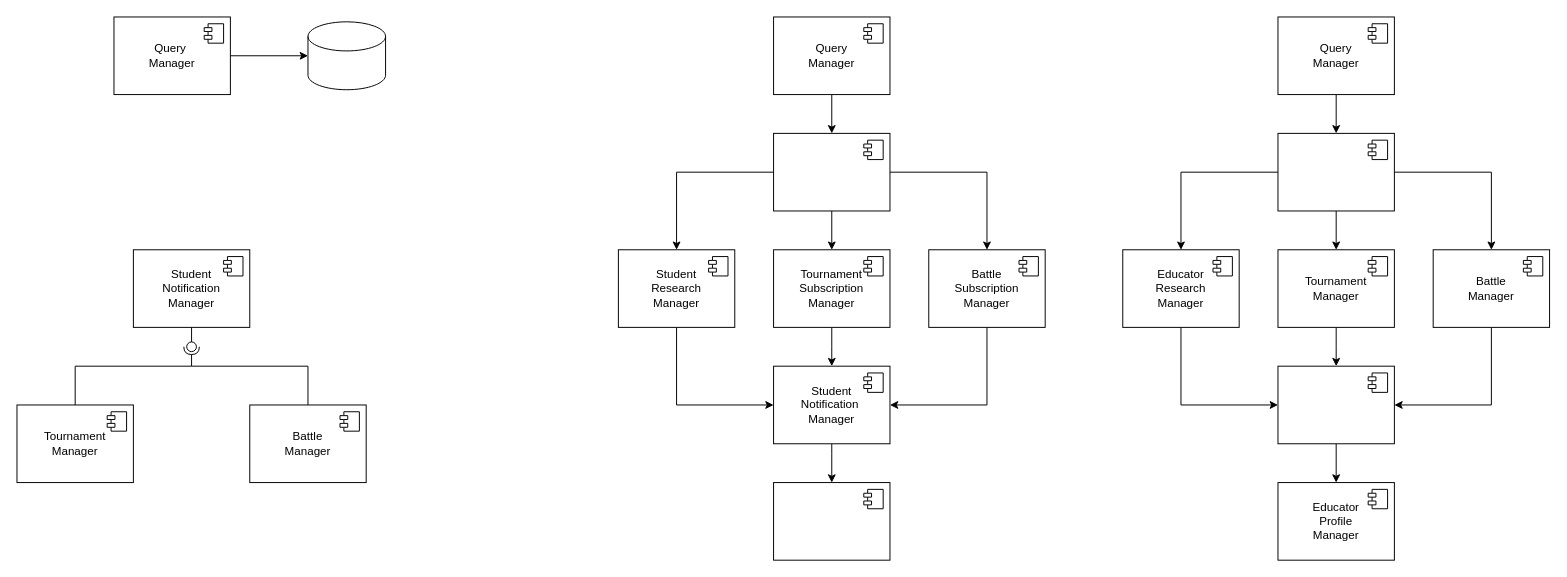
Image size: 1567x577. Some labels were removed from this diagram. The shapes that lost their labels are listed below. From the top down, each one's box as (x1, y1, x2, y2) in pixels, then its label:
(307, 21, 386, 90): Database
(773, 132, 890, 211): Student Account Manager
(1277, 132, 1394, 211): Educator Account Manager
(1277, 365, 1394, 444): Testing Manager
(773, 482, 890, 560): Student Profile Manager
